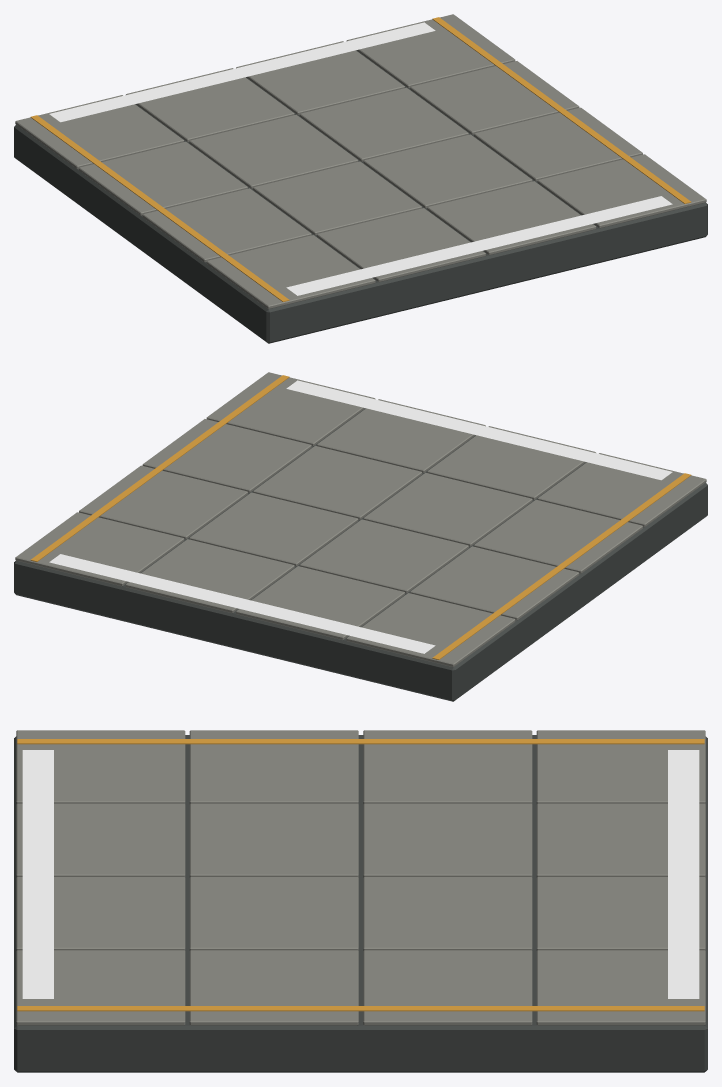
The model's file is walkway-floor.glb.
The picture shows the model from 3 angles, top to bottom: view 1: azimuth 30°, elevation 25°; view 2: azimuth 150°, elevation 25°; view 3: azimuth 270°, elevation 25°; orthographic projection. The views are drawn at different scales.
Visible parts, largest first — view 1: walkway-floor__walkway-floor__concrete, walkway-floor__walkway-floor__concrete-dark, walkway-floor__walkway-floor__decal-hazard, walkway-floor__walkway-floor__amber; view 2: walkway-floor__walkway-floor__concrete, walkway-floor__walkway-floor__concrete-dark, walkway-floor__walkway-floor__decal-hazard, walkway-floor__walkway-floor__amber; view 3: walkway-floor__walkway-floor__concrete, walkway-floor__walkway-floor__concrete-dark, walkway-floor__walkway-floor__decal-hazard, walkway-floor__walkway-floor__amber.
Boxes of the visible parts, box(x1,y1,x2,y2) form: walkway-floor__walkway-floor__concrete: box(15, 14, 706, 309); walkway-floor__walkway-floor__concrete-dark: box(14, 50, 707, 343); walkway-floor__walkway-floor__decal-hazard: box(49, 22, 672, 295); walkway-floor__walkway-floor__amber: box(30, 17, 691, 301); walkway-floor__walkway-floor__concrete: box(15, 372, 706, 667); walkway-floor__walkway-floor__concrete-dark: box(14, 408, 707, 701); walkway-floor__walkway-floor__decal-hazard: box(49, 380, 672, 653); walkway-floor__walkway-floor__amber: box(30, 375, 691, 659); walkway-floor__walkway-floor__concrete: box(16, 730, 705, 1025); walkway-floor__walkway-floor__concrete-dark: box(14, 735, 707, 1072); walkway-floor__walkway-floor__decal-hazard: box(22, 750, 699, 998); walkway-floor__walkway-floor__amber: box(17, 739, 704, 1011).
Size of the model in its own units: 4 by 0.337 by 4.
